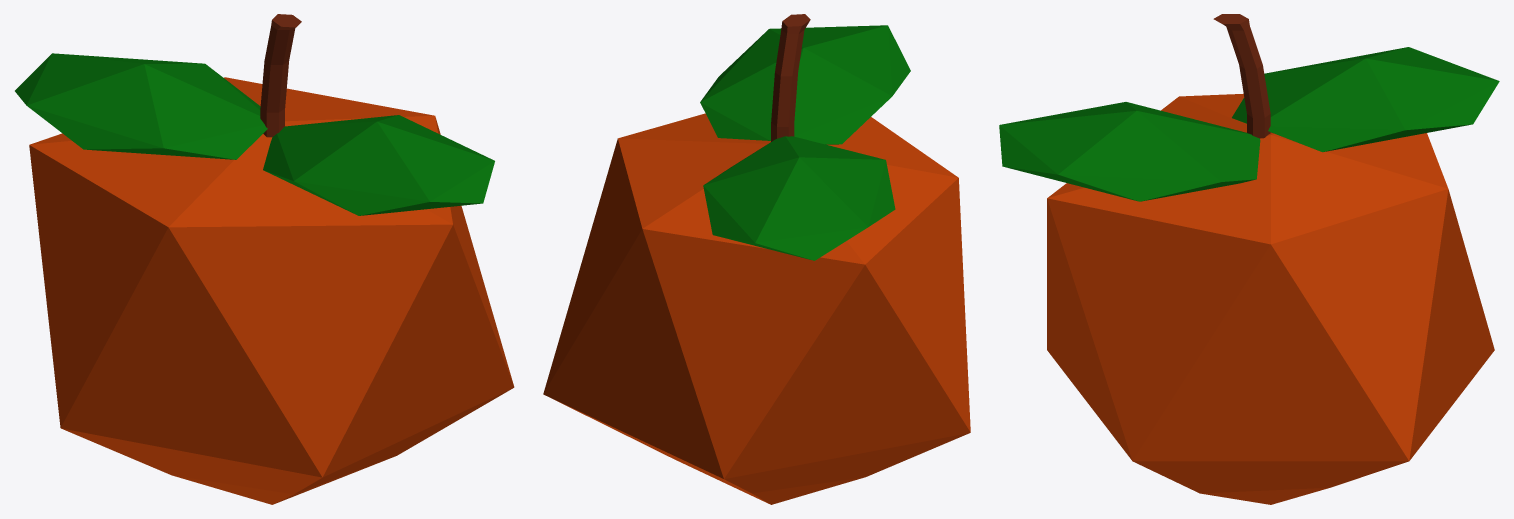
File: Fruit.fbx
3 renders of one model, left to right at view 1: azimuth 30°, elevation 25°; view 2: azimuth 150°, elevation 25°; view 3: azimuth 270°, elevation 25°, orthographic. The views are drawn at different scales.
Parts seen in each view (by area): view 1: Fruit PickUp; view 2: Fruit PickUp; view 3: Fruit PickUp.
Boxes of the visible parts, x1,y1,x2,y2 form: Fruit PickUp: (15, 14, 514, 504); Fruit PickUp: (543, 14, 970, 504); Fruit PickUp: (999, 14, 1499, 504).
Size of the model in its own units: 162 by 203 by 190.
